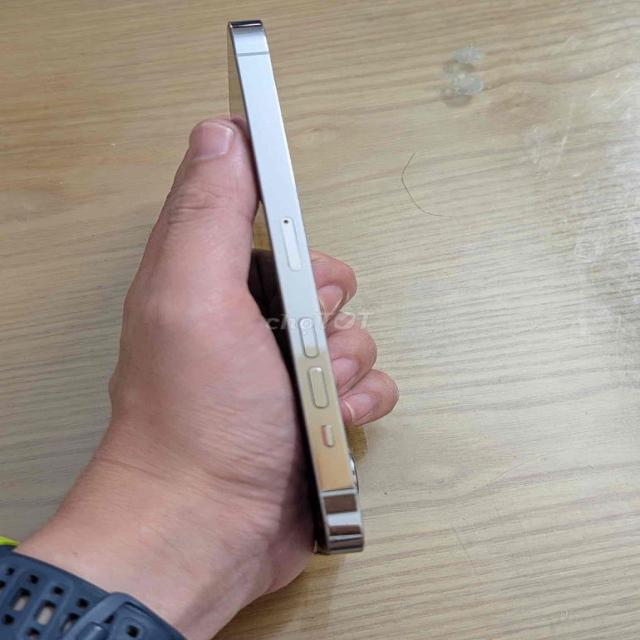gen_14: (219, 9, 414, 568)
